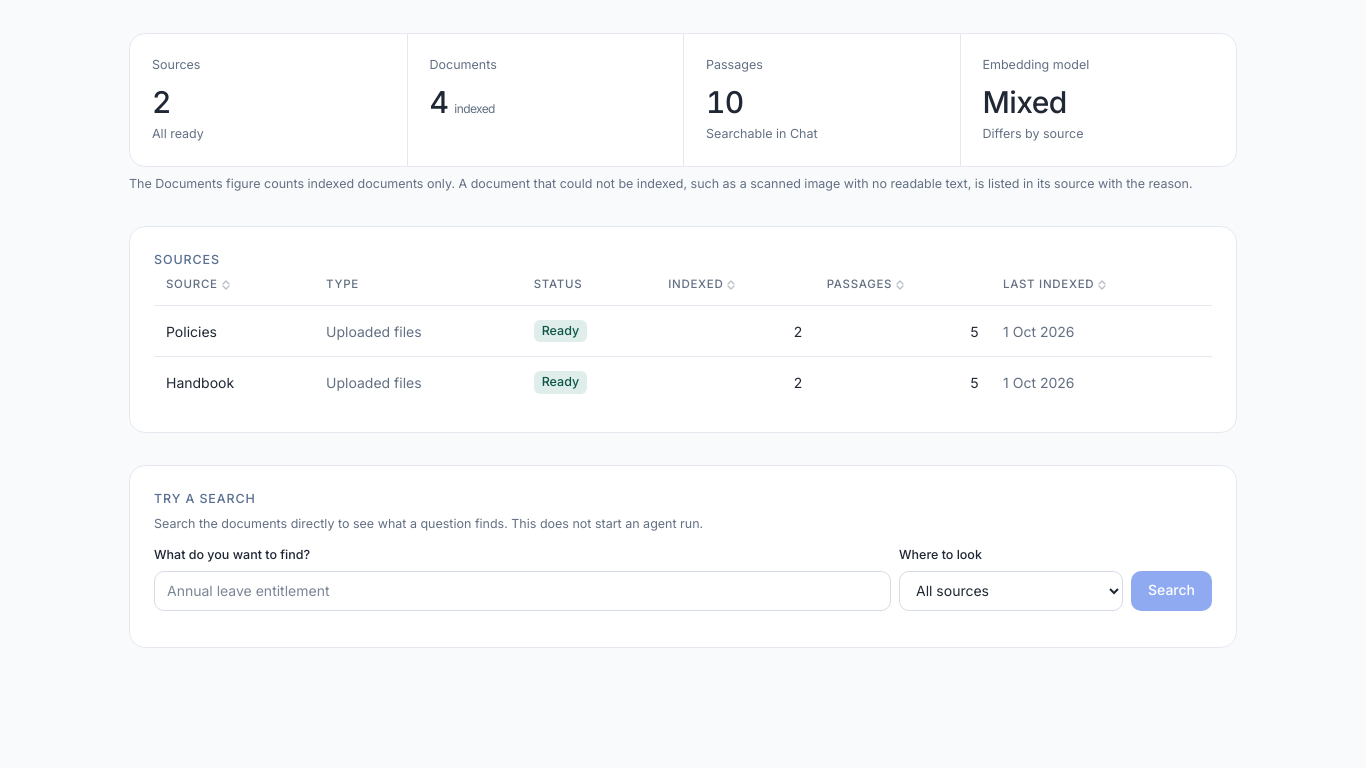
Try a search › limits the search to the source chosen, when there is more than one to choose from
(page scrolled)
Check: the heading "Sources" is shown, box left=154, top=252, right=220, bottom=267
Select "Handbook" in the dropdown labelled "Where to look": (1011, 591) left=899, top=571, right=1123, bottom=611
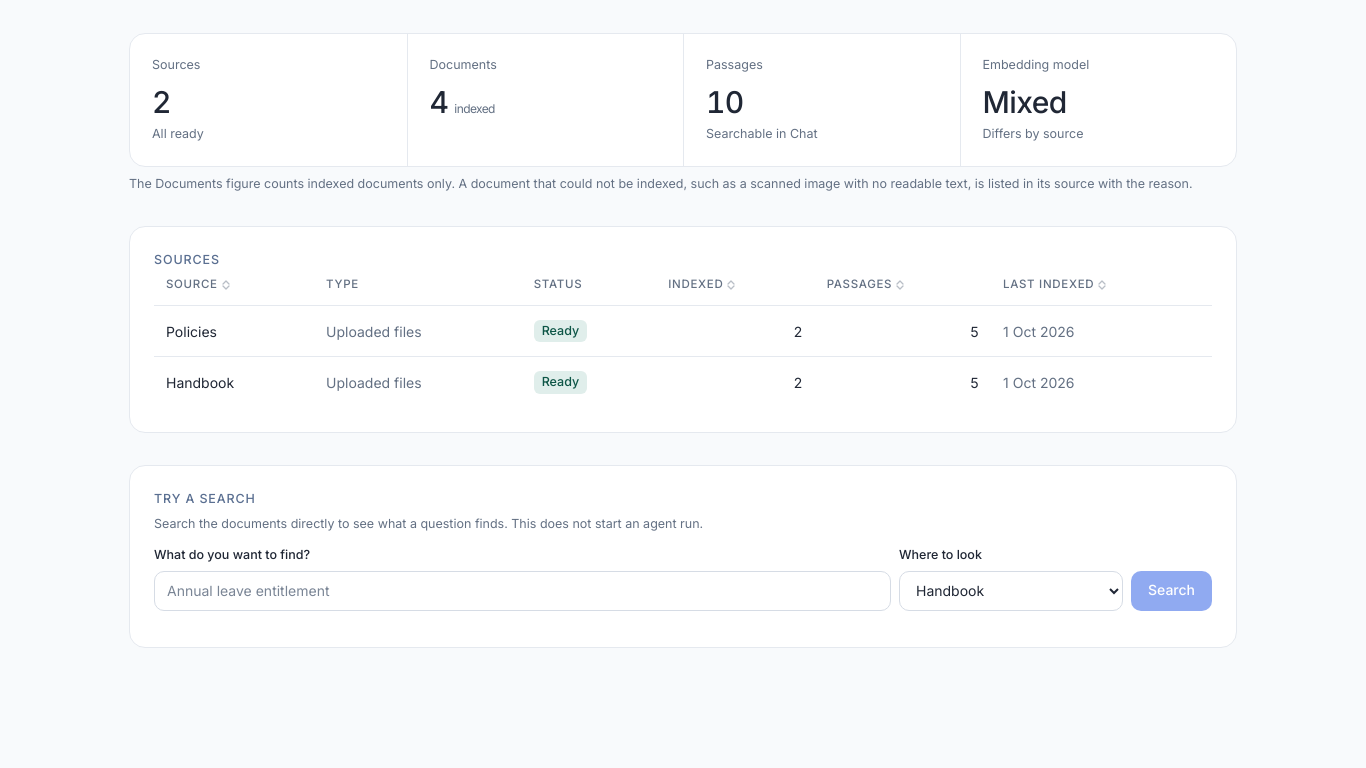
In the field labelled "What do you want to find?": (522, 591) left=154, top=571, right=891, bottom=611, type "annual leave"
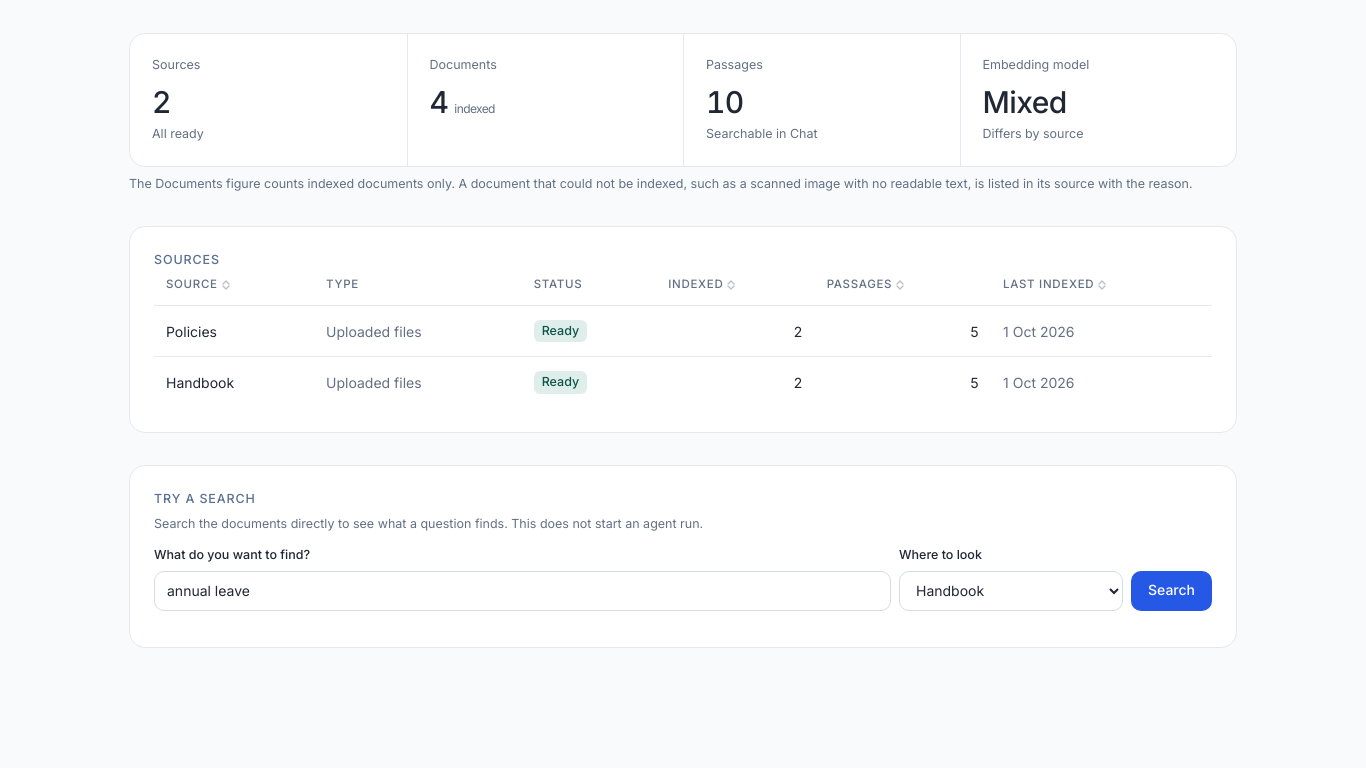
Click the button "Search": (1172, 591) left=1131, top=571, right=1212, bottom=611
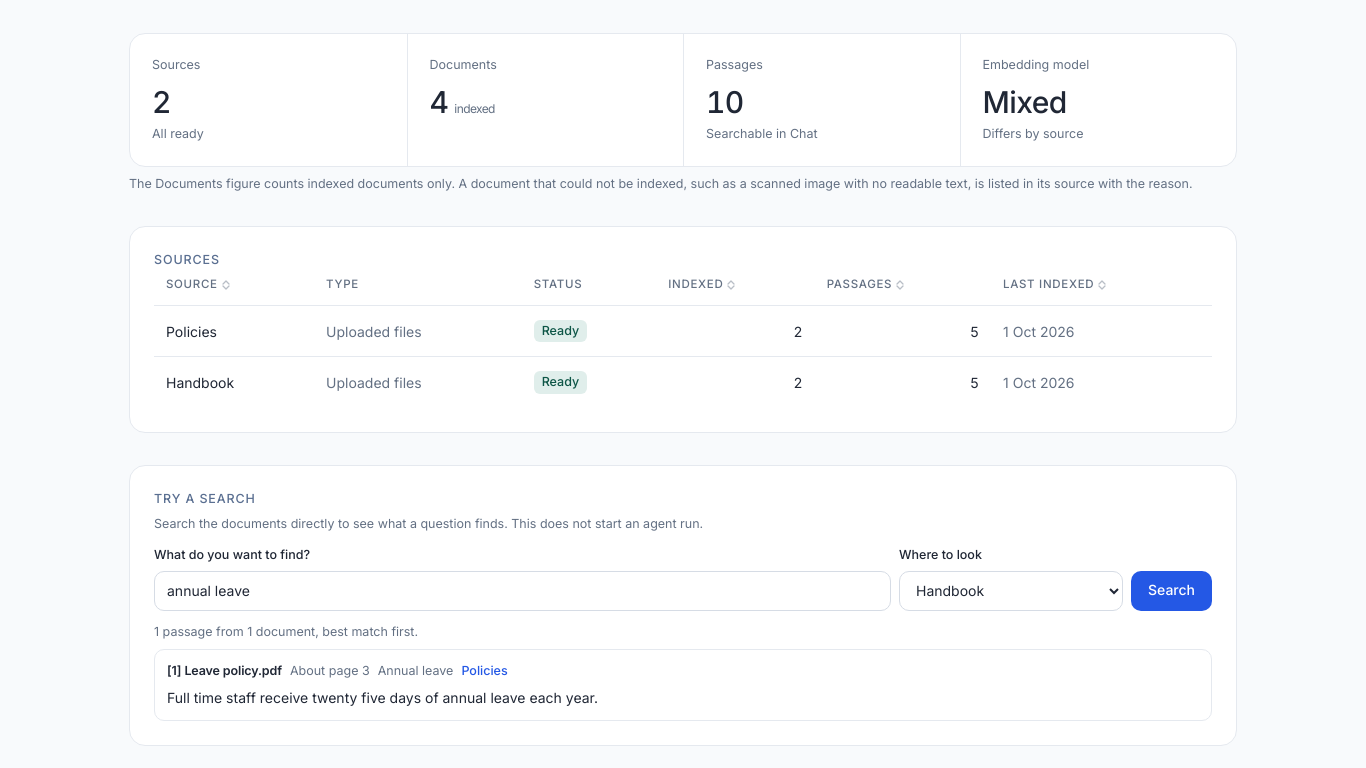
Check: the text "[1] Leave policy.pdf" is shown, box left=167, top=662, right=282, bottom=681
